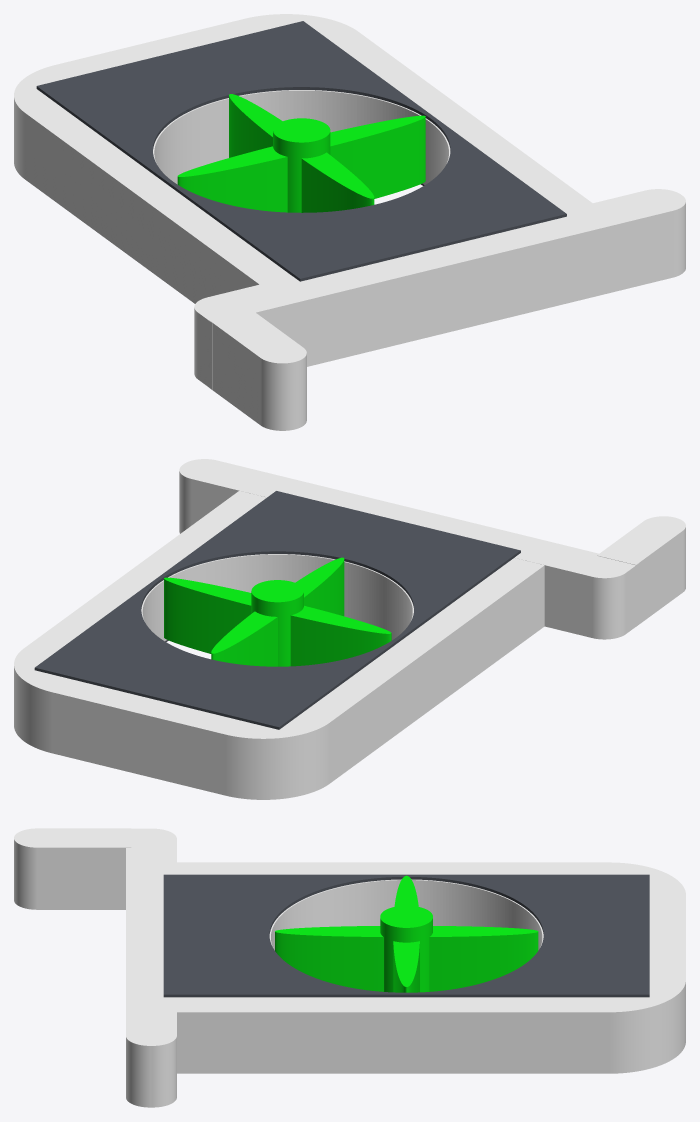
The model's file is GPU.glb.
3 renders of one model, top to bottom at view 1: azimuth 30°, elevation 25°; view 2: azimuth 150°, elevation 25°; view 3: azimuth 270°, elevation 25°, orthographic. The views are drawn at different scales.
Parts seen in each view (by area): view 1: gpu_1., gpu_2, fan; view 2: gpu_1., gpu_2, fan; view 3: gpu_1., gpu_2, fan.
Part boxes in pixels (x1,y1,x2,y2): gpu_1.: [14, 14, 685, 430]; gpu_2: [36, 21, 566, 281]; fan: [177, 94, 425, 212]; gpu_1.: [14, 459, 685, 799]; gpu_2: [34, 491, 520, 729]; fan: [164, 557, 391, 666]; gpu_1.: [14, 828, 685, 1107]; gpu_2: [163, 874, 649, 997]; fan: [275, 875, 538, 992].
Bounding box in the file's own units: 1.34 × 0.255 × 1.75.
